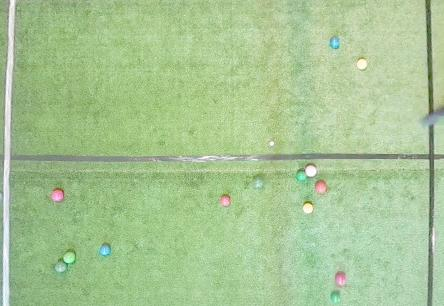blue: (329, 37, 340, 49), (99, 245, 110, 256)
green: (62, 252, 75, 263), (253, 177, 265, 188), (331, 291, 341, 304), (55, 262, 67, 272), (296, 171, 306, 182)
red: (51, 190, 64, 202), (335, 273, 346, 287), (305, 165, 317, 177), (315, 182, 326, 194), (220, 196, 230, 206)
vline: (0, 0, 20, 305), (427, 127, 443, 305), (425, 0, 443, 113)
white: (270, 141, 275, 146)
yellow: (302, 203, 313, 214), (357, 59, 367, 70)
